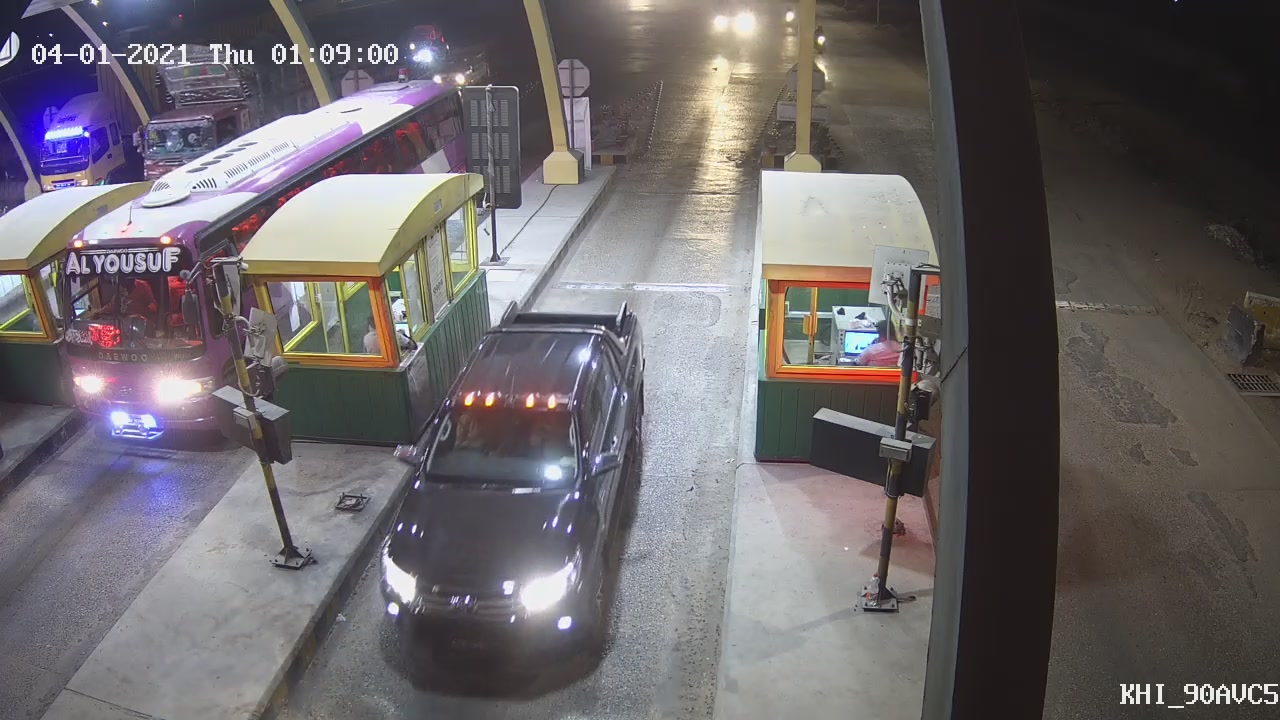F1: (372, 303, 654, 684)
